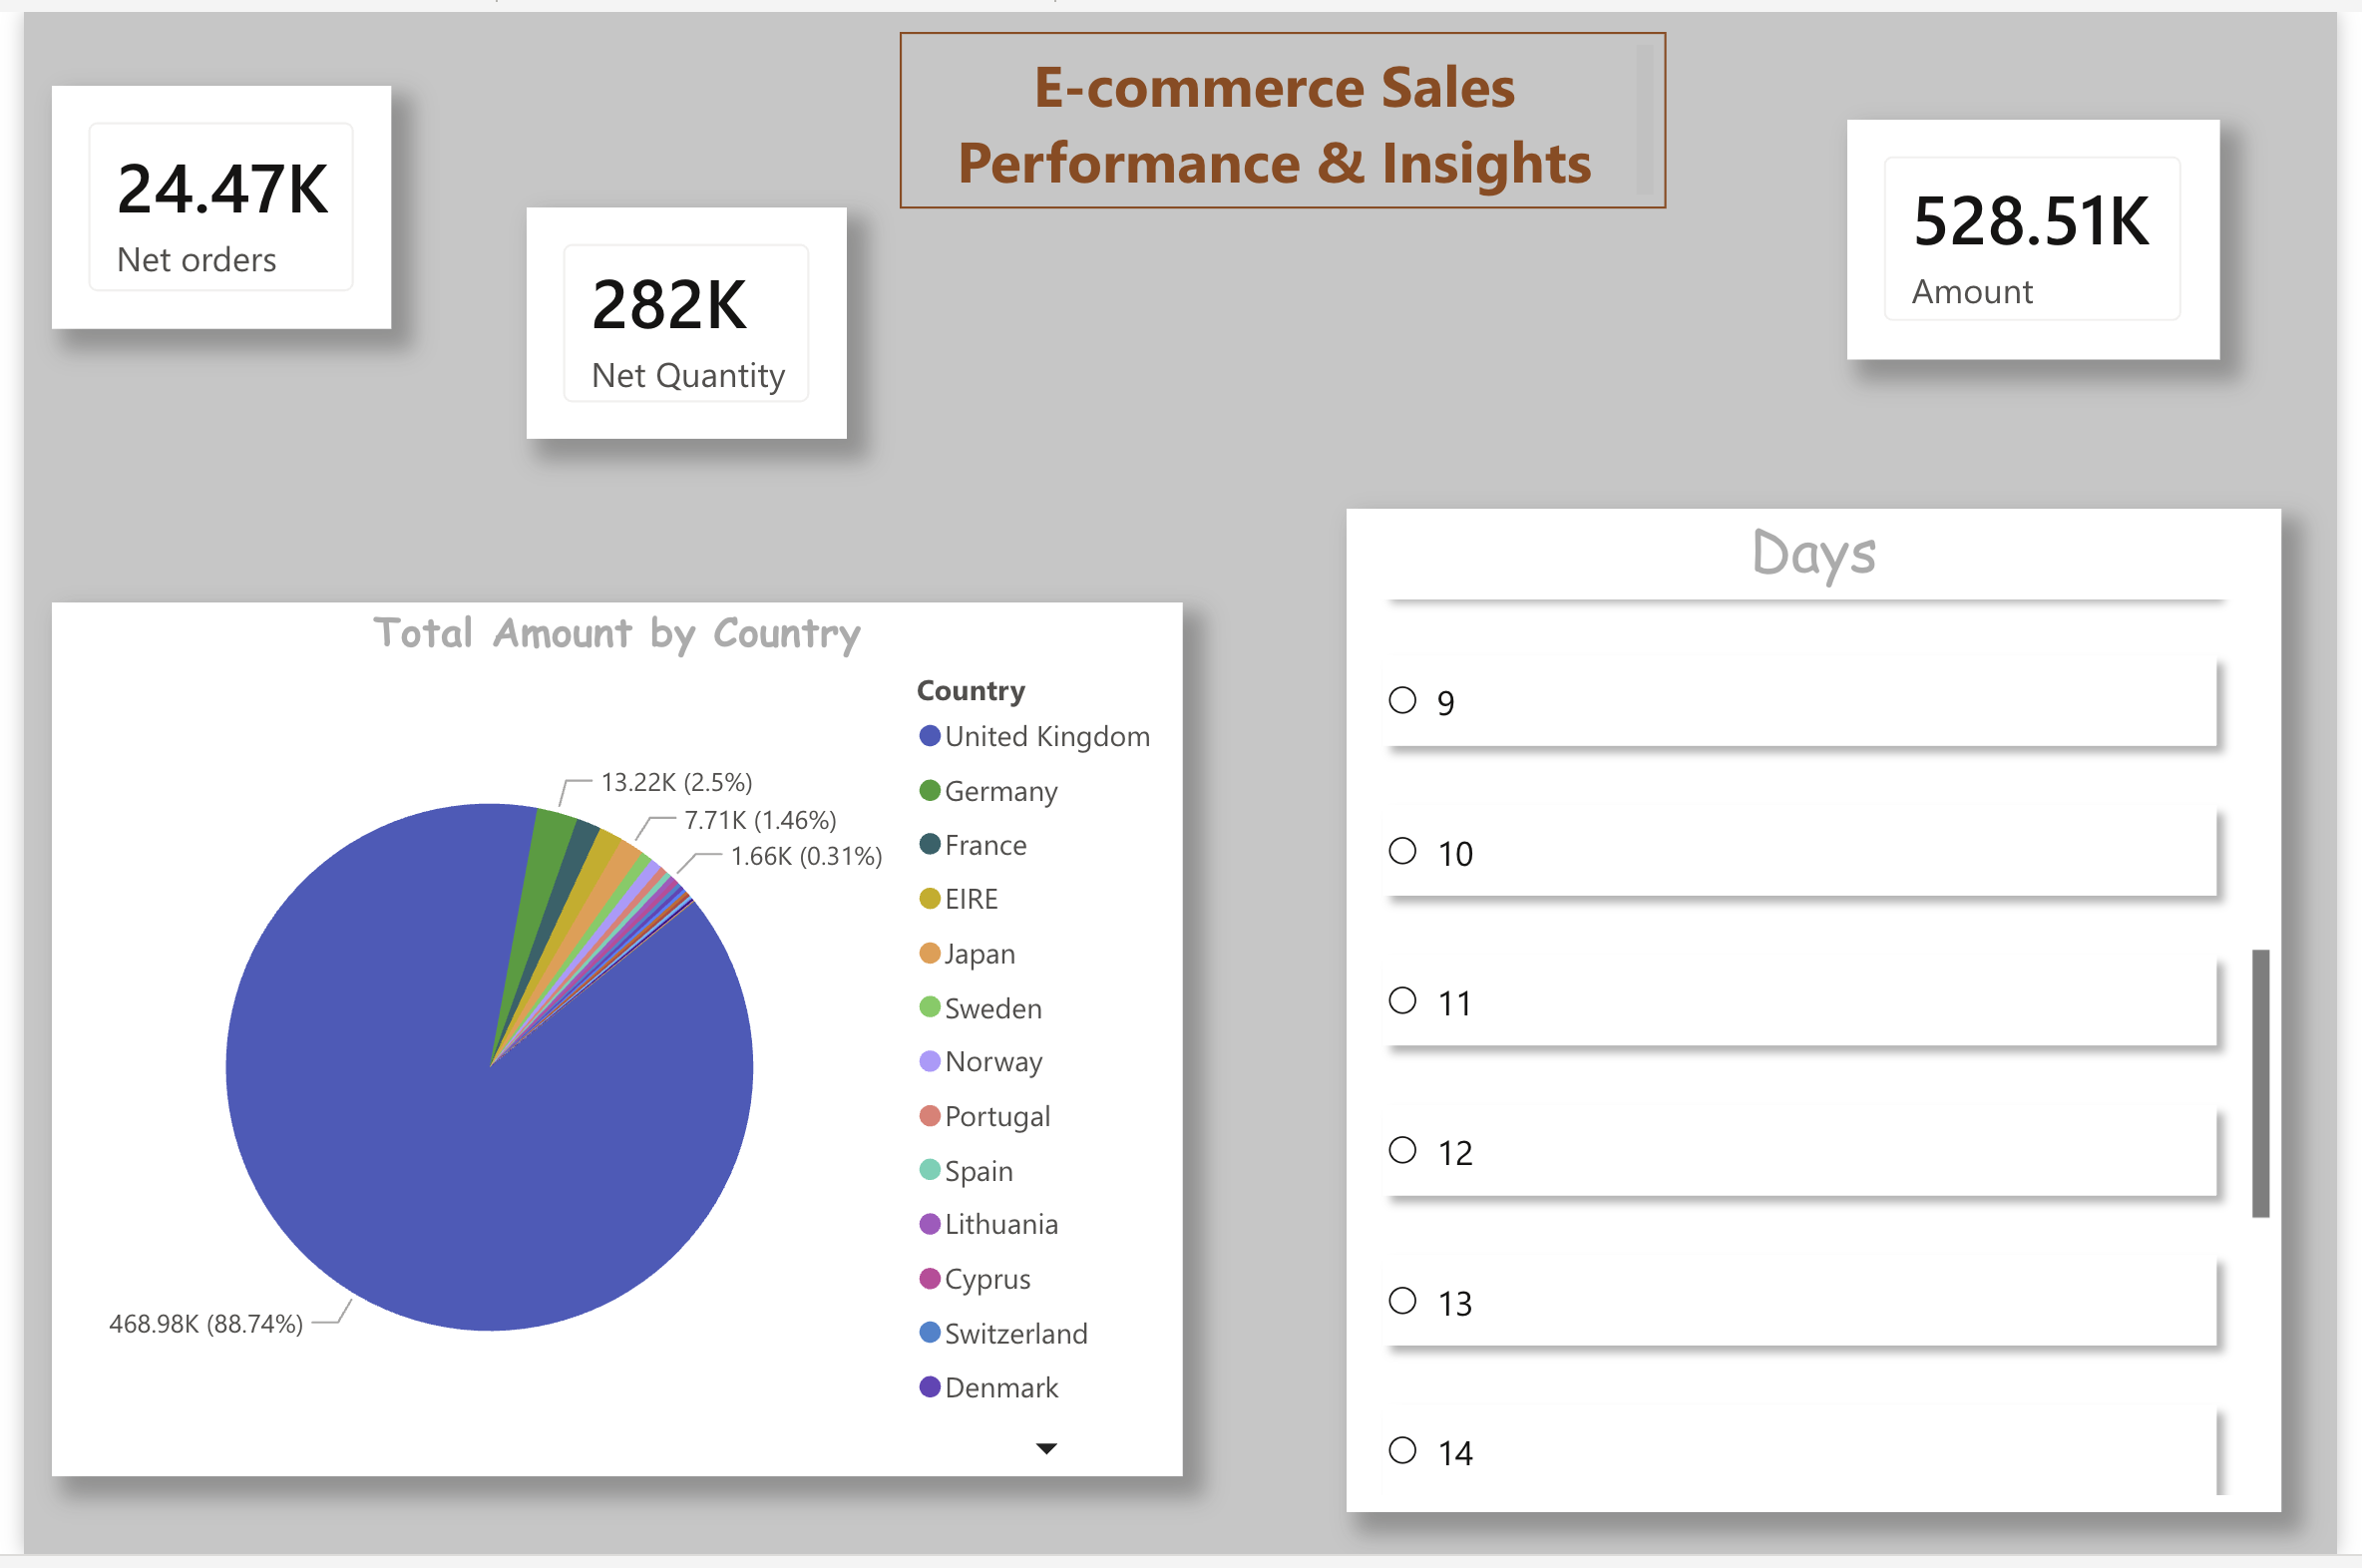

What the dashboard file says about the page in this screenshot:
{"tool":"powerbi","page":{"name":"Page 1","canvas":[1080,720],"ordinal":0},"visuals":[{"type":"cardVisual","fields":{"Data":["CountNonNull(E_commerce_sales_cleaned 2.CustomerID)"]},"box":[12.9,34.8,158.3,113.3],"z":0},{"type":"cardVisual","fields":{"Data":["Sum(E_commerce_sales_cleaned 2.price)"]},"box":[850.9,50.2,173.8,112],"z":1000},{"type":"cardVisual","fields":{"Data":["Sum(E_commerce_sales_cleaned 2.Quantity)"]},"box":[234.3,91.4,149.3,108.1],"z":2000},{"type":"textbox","box":[409.3,9,357.9,82.4],"z":3000},{"type":"pieChart","title":"Total Amount  by Country","fields":{"Category":["E_commerce_sales_cleaned 2.Country"],"Y":["Sum(E_commerce_sales_cleaned 2.price)"]},"box":[12.9,275.5,527.8,408.1],"z":3001},{"type":"listSlicer","title":"Days","fields":{"Values":["E_commerce_sales_cleaned 2.order_date.Variation.Date Hierarchy.Day"]},"box":[617.9,231.7,436.4,468.6],"z":3002}]}

Visuals, with their boxes in screenshot pixels (x1, y1, x2, y2), scaled from the page's 1080x720 canvas onto the 2362x1568 screenshot:
cardVisual - CountNonNull(E_commerce_sales_cleaned 2.CustomerID): <box>28,76,374,322</box>
cardVisual - Sum(E_commerce_sales_cleaned 2.price): <box>1861,110,2241,353</box>
cardVisual - Sum(E_commerce_sales_cleaned 2.Quantity): <box>513,199,839,435</box>
textbox: <box>895,20,1678,199</box>
"Total Amount  by Country" pieChart: <box>28,600,1183,1489</box>
"Days" listSlicer: <box>1352,505,2306,1525</box>
